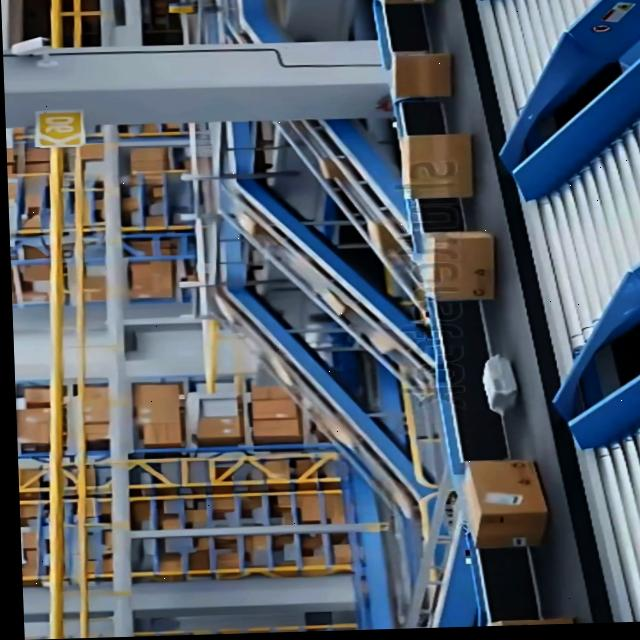product 1: (417, 230, 497, 302), (397, 133, 474, 199), (389, 49, 453, 99)
product 2: (479, 353, 519, 416)
